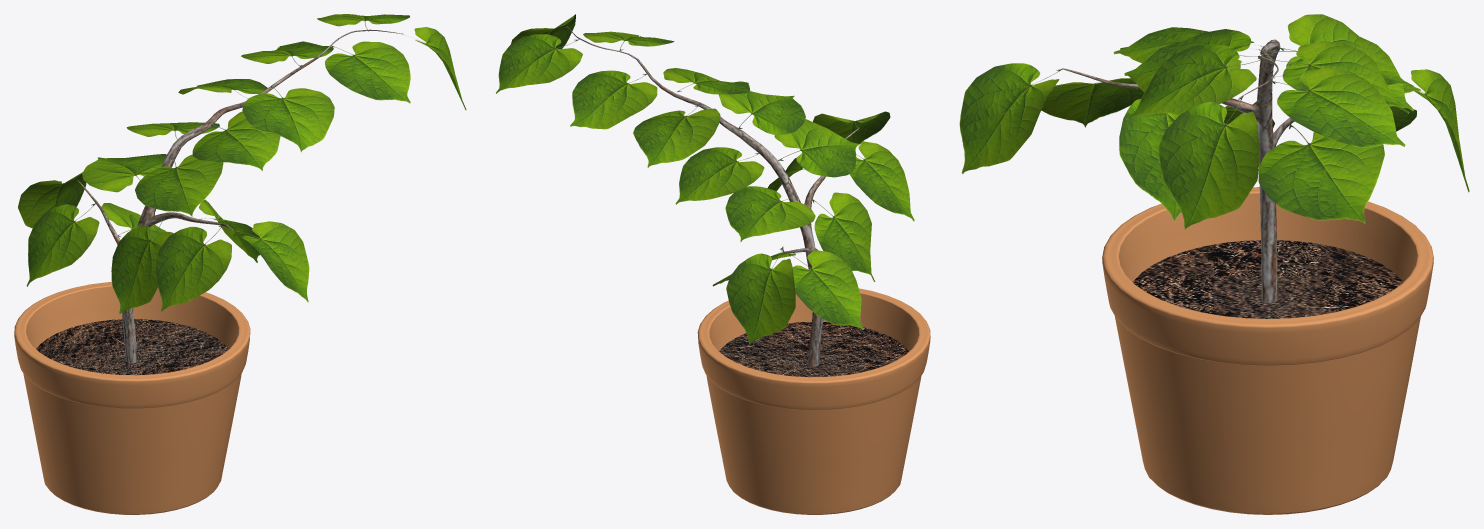
The model's file is redbud_tree_seedling_week_8_plant_ryann_davis.glb.
The picture shows the model from 3 angles, left to right: view 1: azimuth 30°, elevation 25°; view 2: azimuth 150°, elevation 25°; view 3: azimuth 270°, elevation 25°; orthographic projection. The views are drawn at different scales.
Parts seen in each view (by area): view 1: Object_5, Object_3, Object_2, Object_4; view 2: Object_5, Object_3, Object_2, Object_4; view 3: Object_3, Object_5, Object_2, Object_4.
Boxes of the visible parts, box(x1,y1,x2,y2) form: Object_5: box(18, 14, 466, 314); Object_3: box(14, 282, 250, 514); Object_2: box(36, 319, 228, 375); Object_4: box(77, 30, 403, 363); Object_5: box(496, 14, 914, 344); Object_3: box(697, 288, 930, 514); Object_2: box(719, 322, 908, 377); Object_4: box(567, 26, 859, 366); Object_3: box(1102, 187, 1433, 514); Object_5: box(959, 14, 1469, 229); Object_2: box(1133, 240, 1403, 318); Object_4: box(1062, 39, 1294, 302).
Size of the model in its own units: 42 by 37.66 by 31.84.
Materials: 4 (3 with a texture image).
